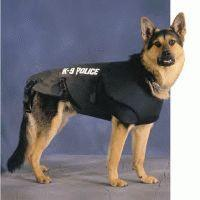German_shepherd: (7, 12, 185, 189)
